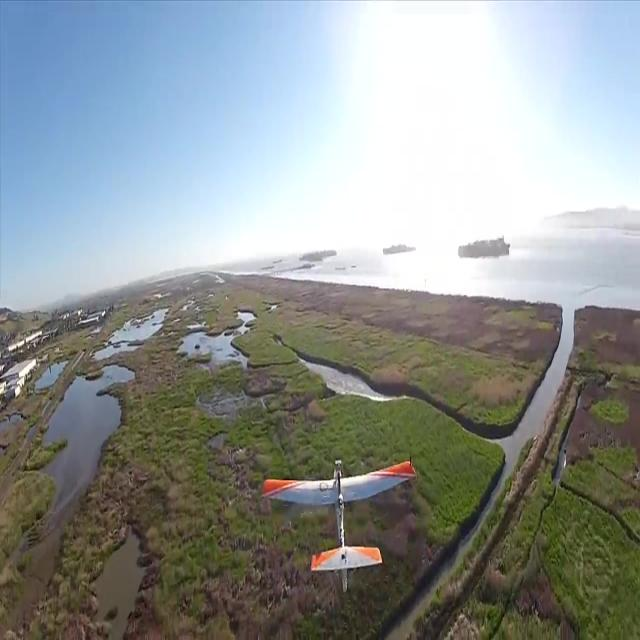iha: (258, 461, 418, 590)
